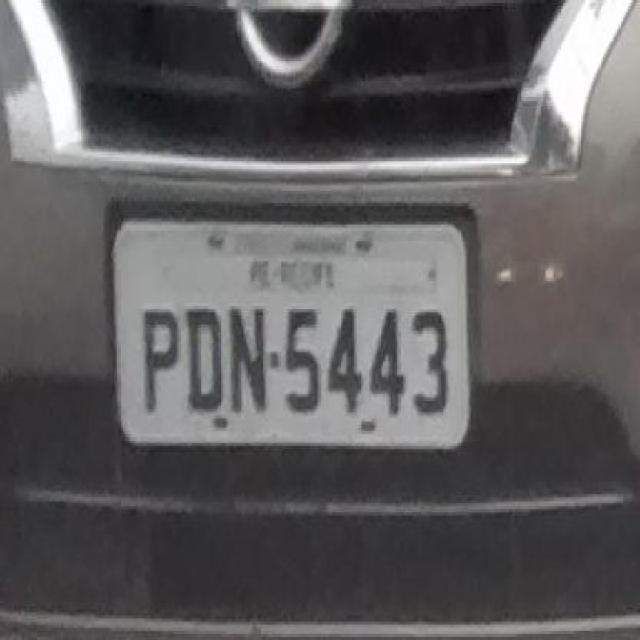old_plate: (108, 213, 478, 454)
